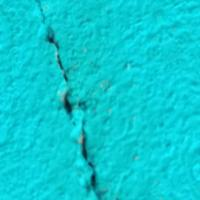crack: (23, 0, 113, 199)
